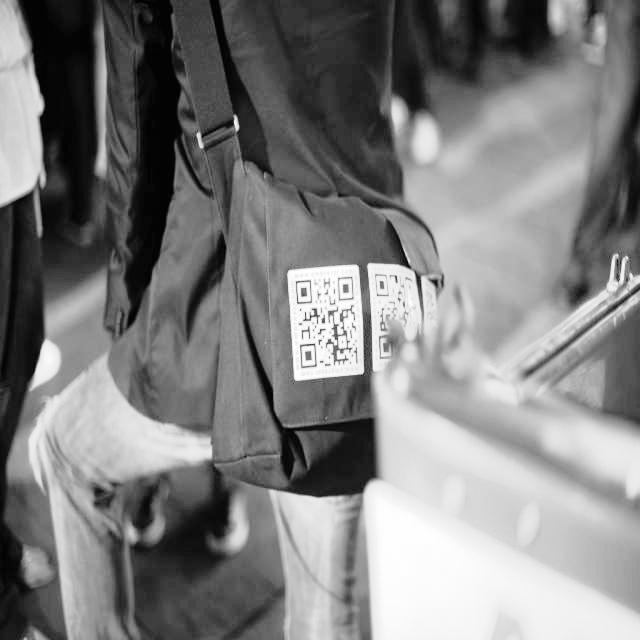qr_code: (295, 276, 357, 369), (374, 273, 419, 359), (426, 288, 437, 325)
